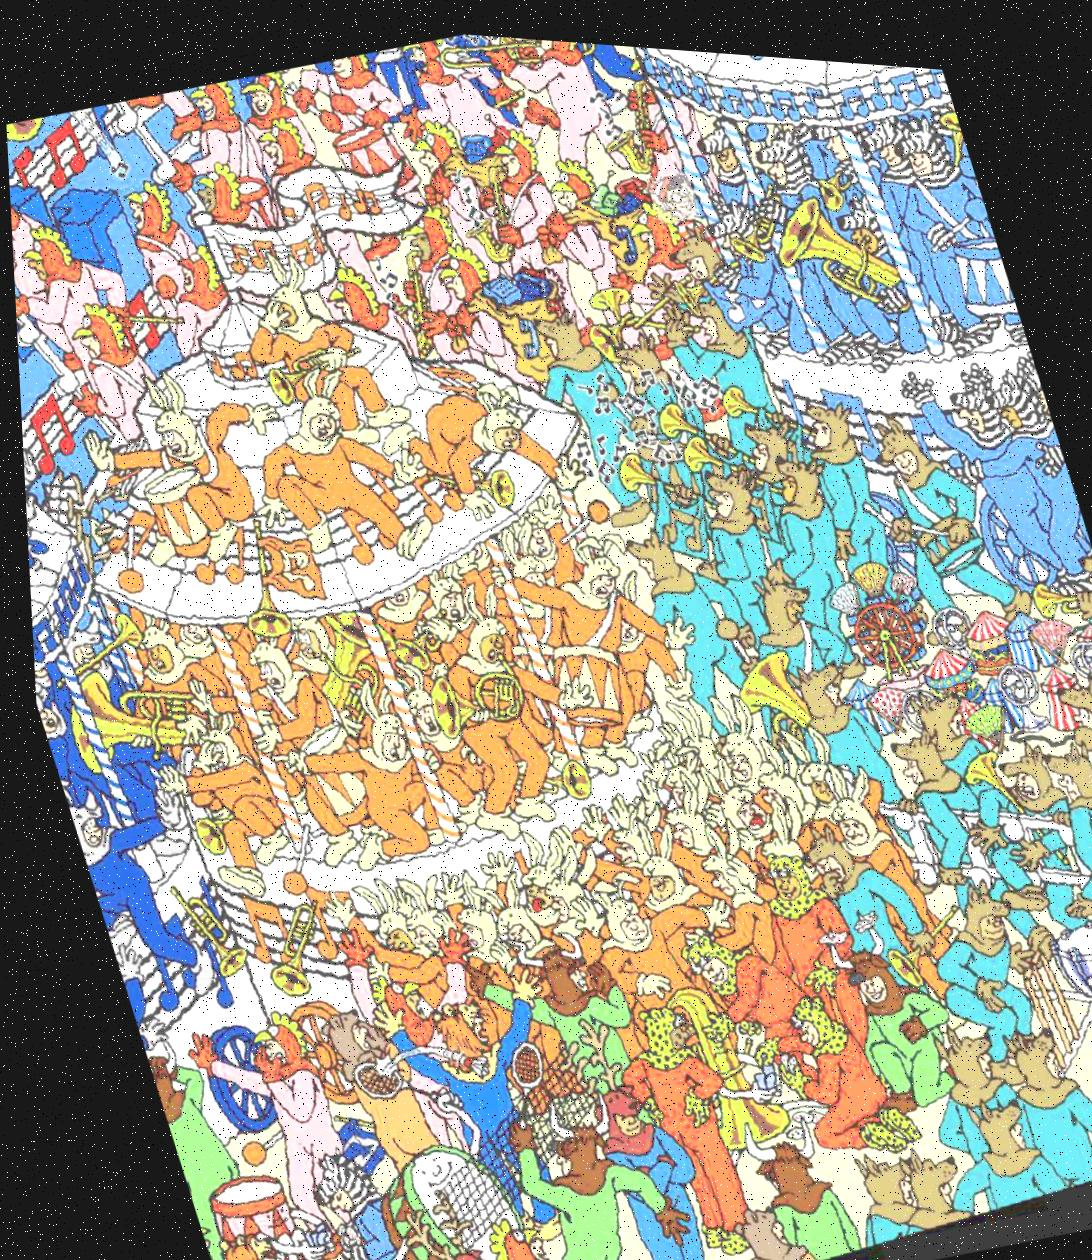waldo: (645, 157, 701, 216)
